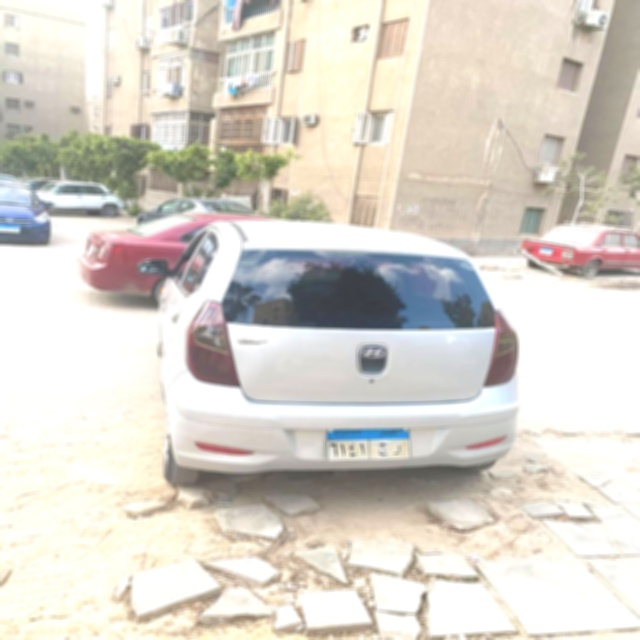License Plate: (324, 427, 412, 461)
